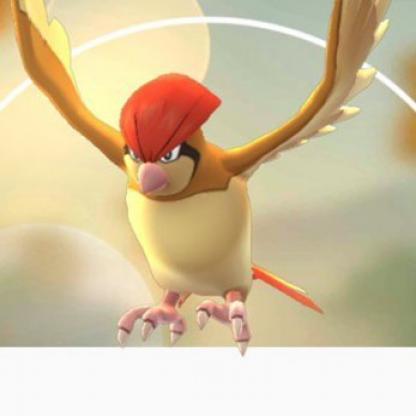Pidgeotto: (1, 1, 390, 356)
